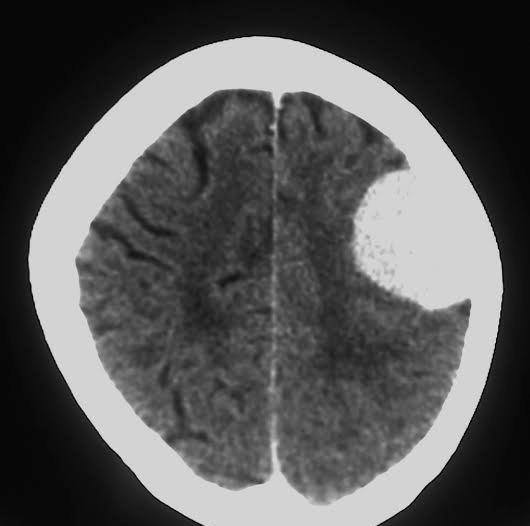Tumour-Meningioma: (328, 159, 507, 351)
